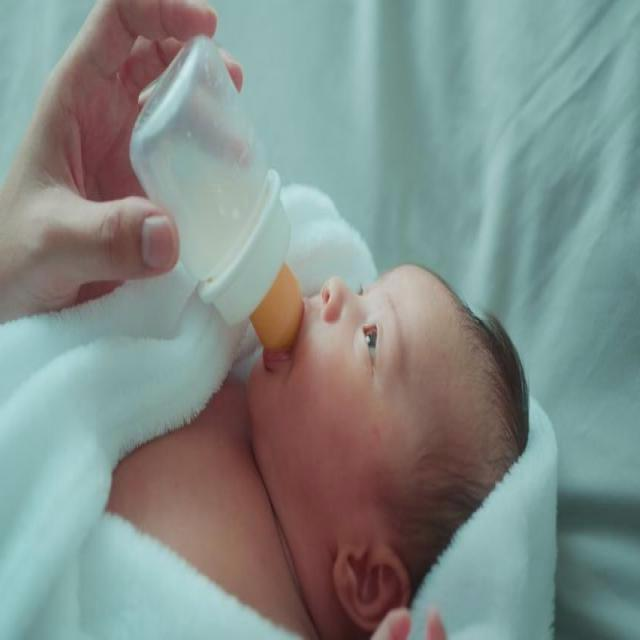child: (124, 36, 536, 630)
